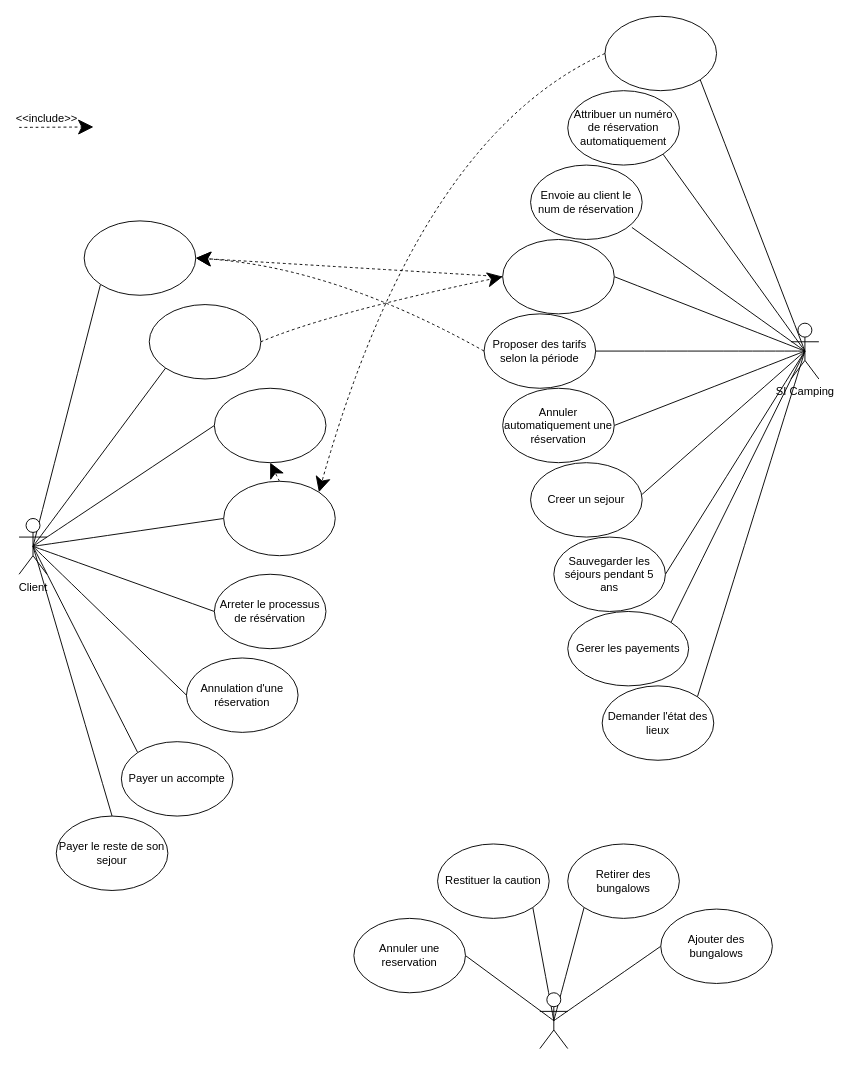
The diagram is 850 pixels wide and 1084 high, and some of its shapes have lost their labels. Here are the shapes that lost their labels. From the top down, the centre of each, then its label:
(x=660, y=53): Vérifier les données saisies
(x=139, y=257): Choix d'une periode de sejour
(x=558, y=276): Proposer des bungalows selon la période
(x=204, y=341): Choix d'un type de bungalow
(x=269, y=425): Saisie des coordonnée du client
(x=279, y=518): Soumettre ses données saisies
(x=553, y=1020): Gest Camping
